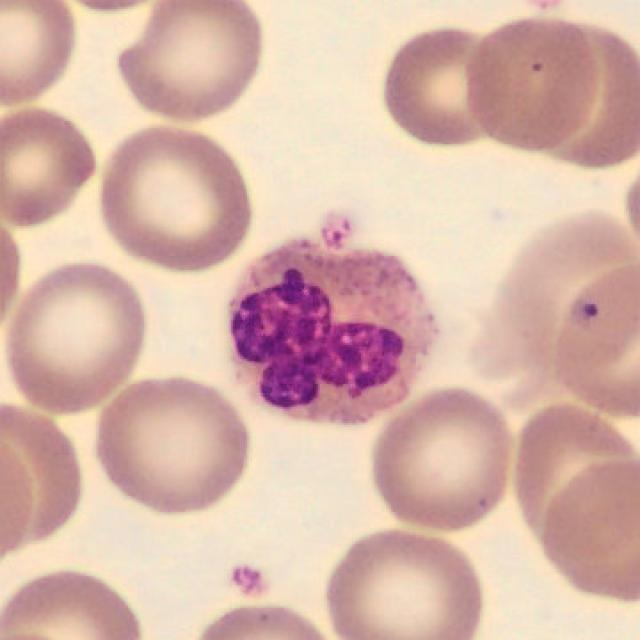Neutrofilo segmentado: (229, 237, 436, 421)
